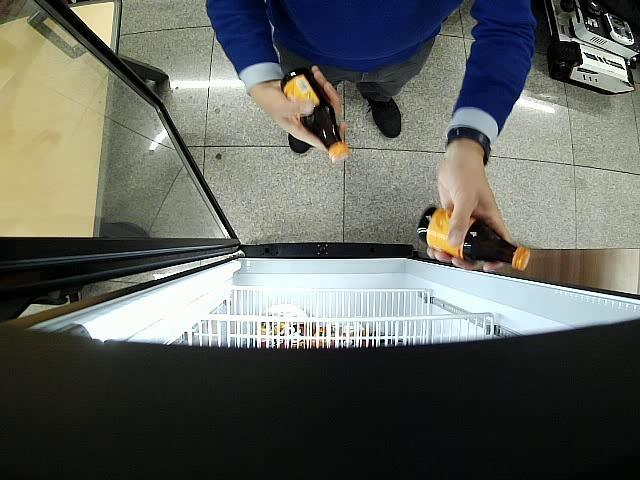17_vita500: (417, 206, 531, 272), (281, 69, 349, 163)
